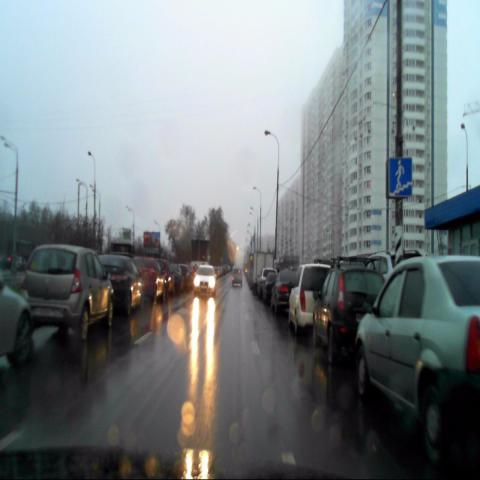6_6: (389, 158, 411, 197)
